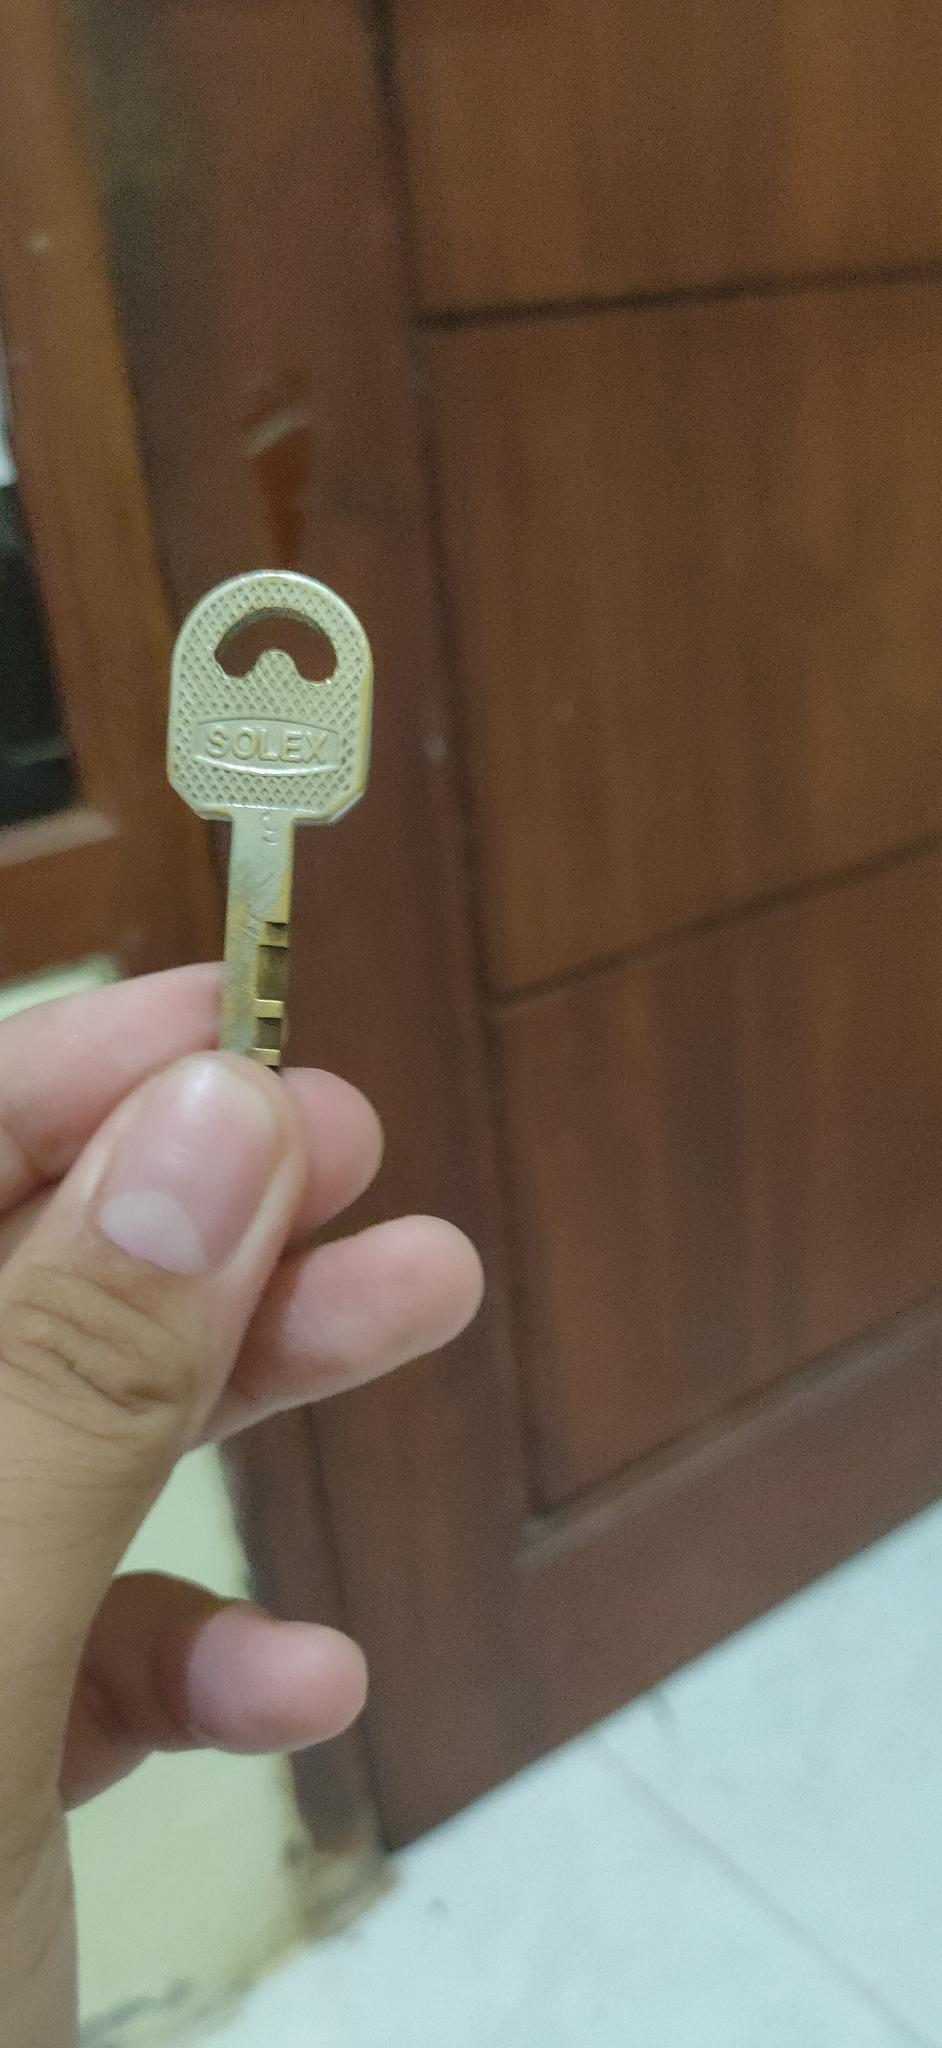keys: (155, 538, 398, 1100)
